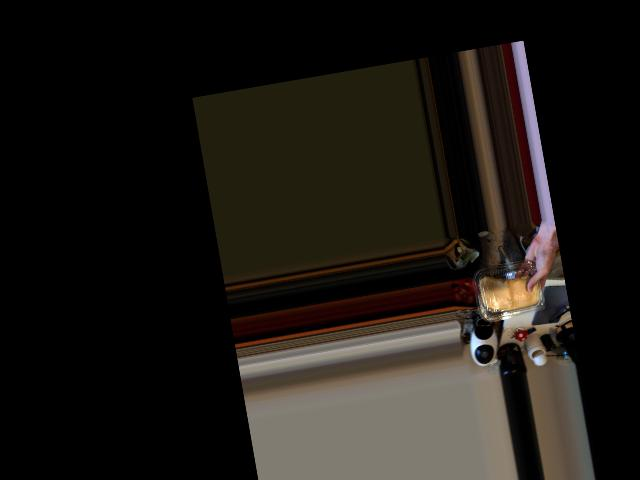cheese: (475, 255, 545, 328)
